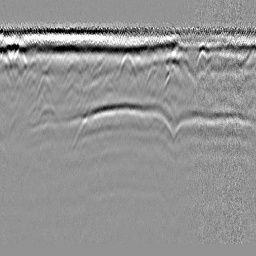cavity: (116, 53, 139, 83)
